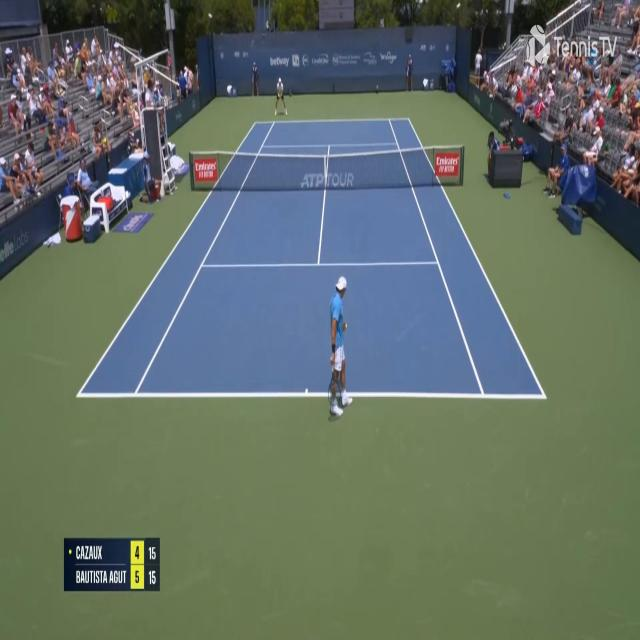tennis-player: (327, 274, 353, 422), (273, 76, 289, 117)
